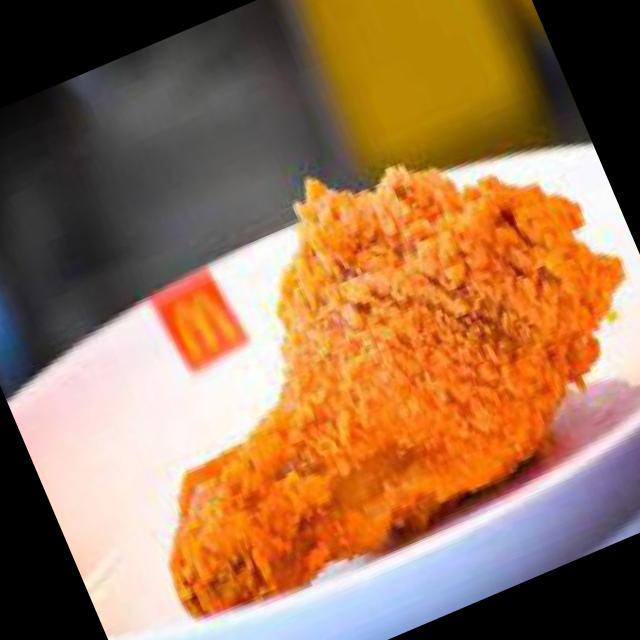Fried Chicken: (166, 165, 627, 623)
